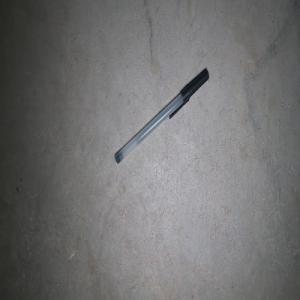Pen: (115, 69, 208, 163)
